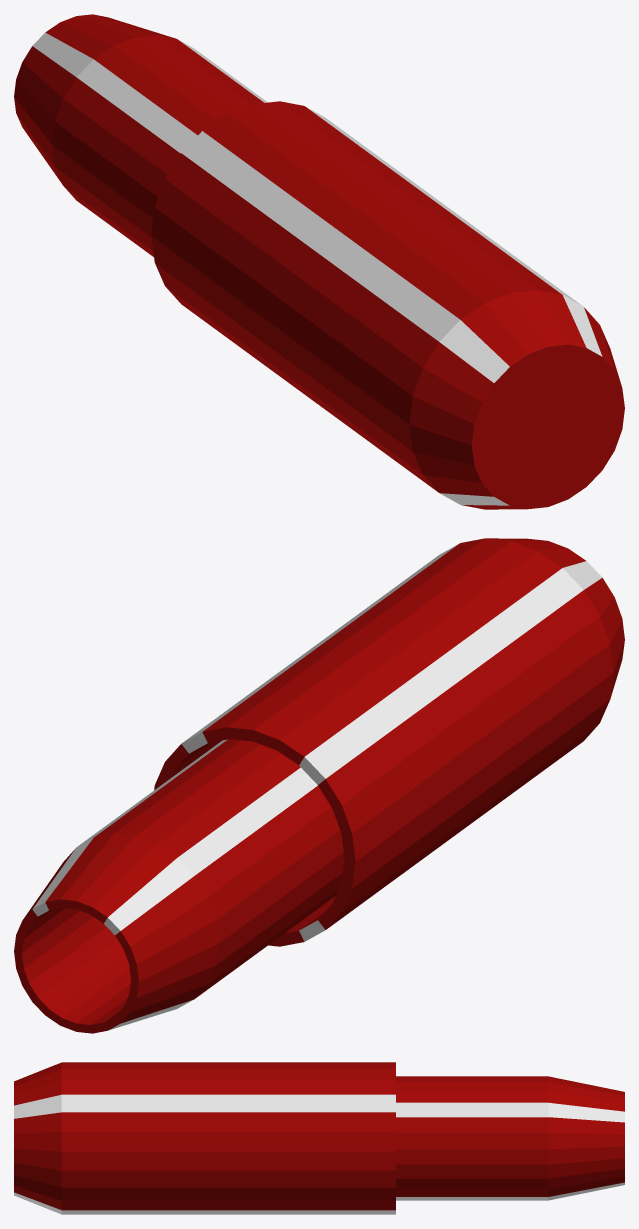
Rendered from cannon.glb.
3 renders of one model, top to bottom at view 1: azimuth 30°, elevation 25°; view 2: azimuth 150°, elevation 25°; view 3: azimuth 270°, elevation 25°, orthographic. The views are drawn at different scales.
Parts seen in each view (by area): view 1: Cylinder; view 2: Cylinder; view 3: Cylinder.
Part boxes in pixels (bbox=[...]): Cylinder: bbox=[14, 14, 624, 509]; Cylinder: bbox=[14, 538, 624, 1033]; Cylinder: bbox=[14, 1062, 624, 1214].
Size of the model in its own units: 2 by 2 by 8.
